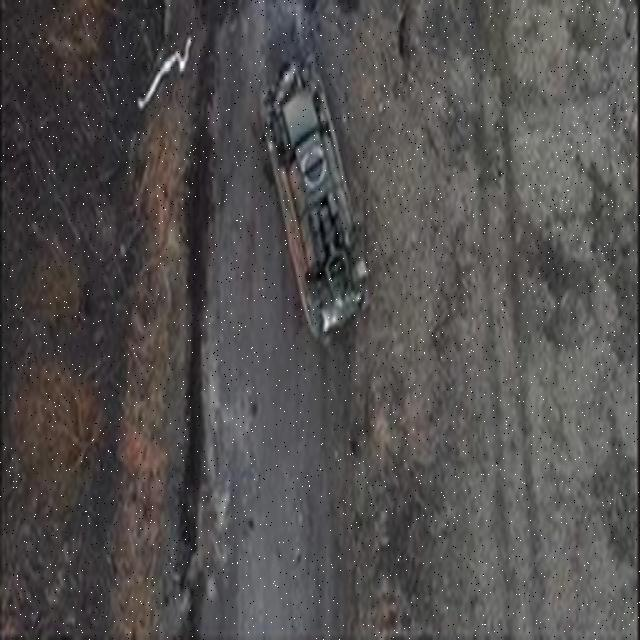MLRS: (262, 51, 376, 340)
